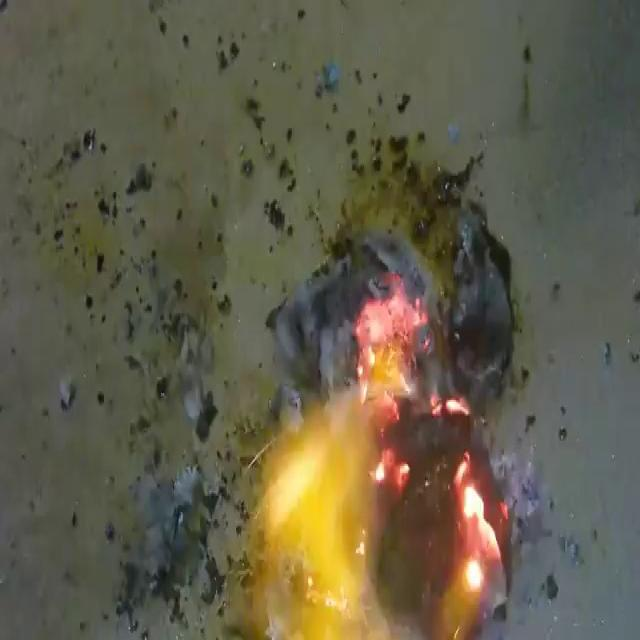Fire: (192, 71, 555, 640)
